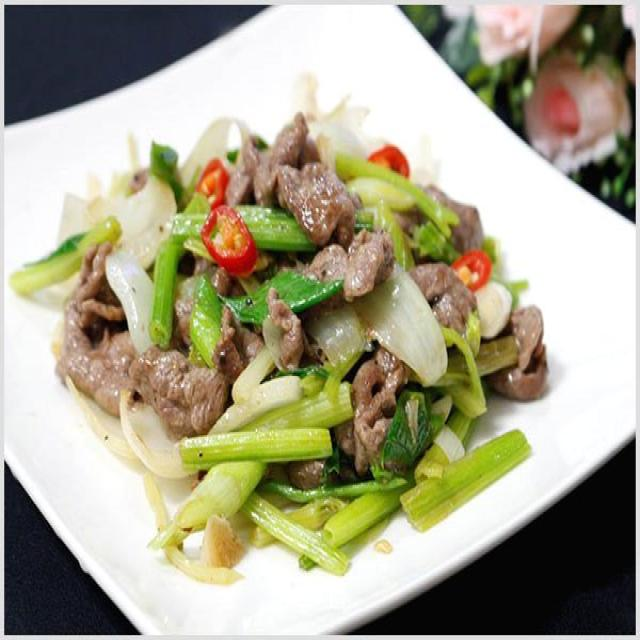bo xao: (22, 112, 521, 578)
ot: (203, 203, 259, 280)
